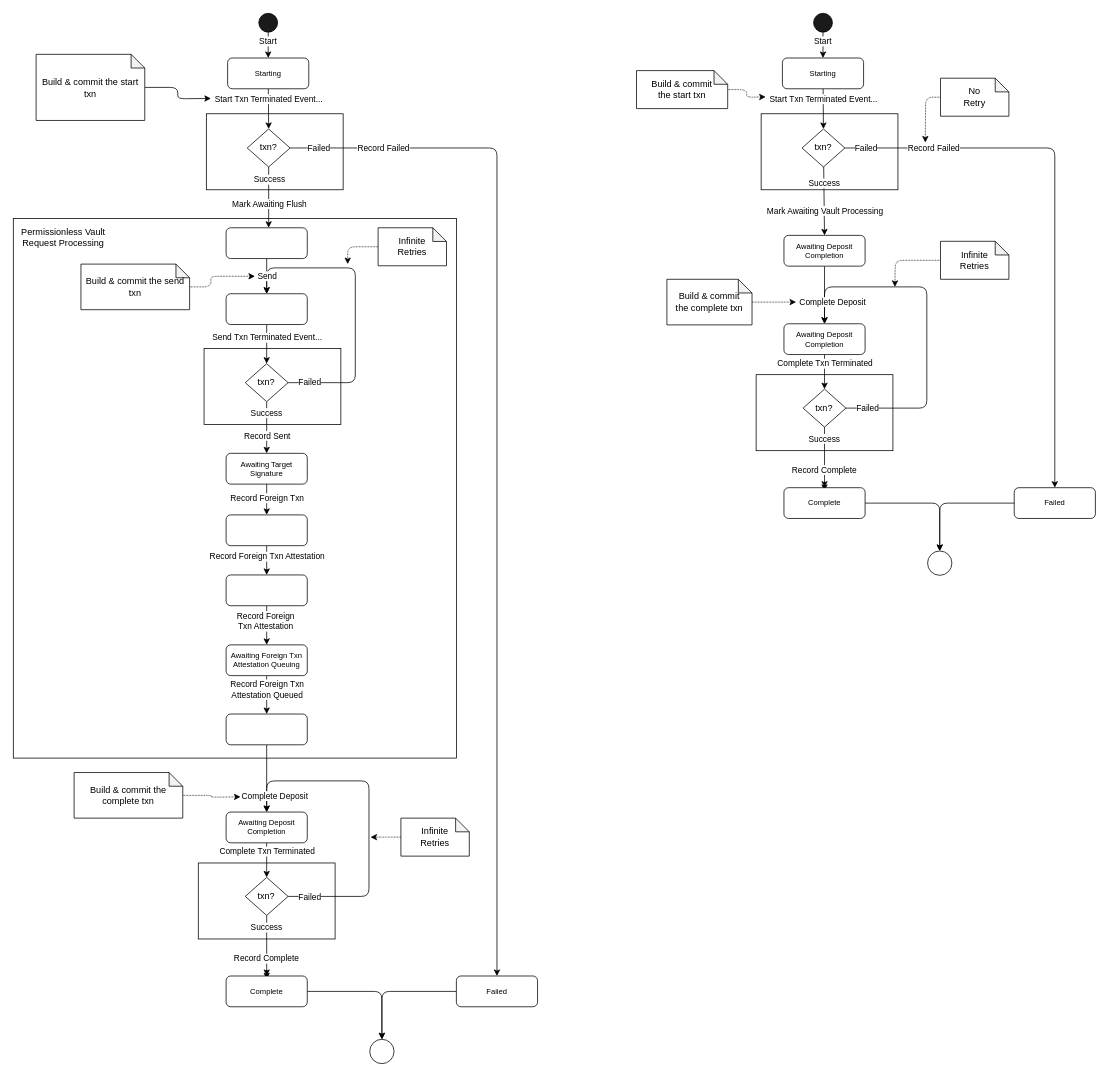
The diagram is 1109 pixels wide and 1077 high, and some of its shapes have lost their labels. Here are the shapes that lost their labels. From the top down, the centre of each, then its label:
At (266,243): "Awaiting Flush".
At (266,309): "Awaiting Sending".
At (266,530): "Awaiting Foreign Txn Submission".
At (266,590): "Awaiting Foreign Txn Attestation".
At (266,729): "Awaiting Attestation Flushing".
